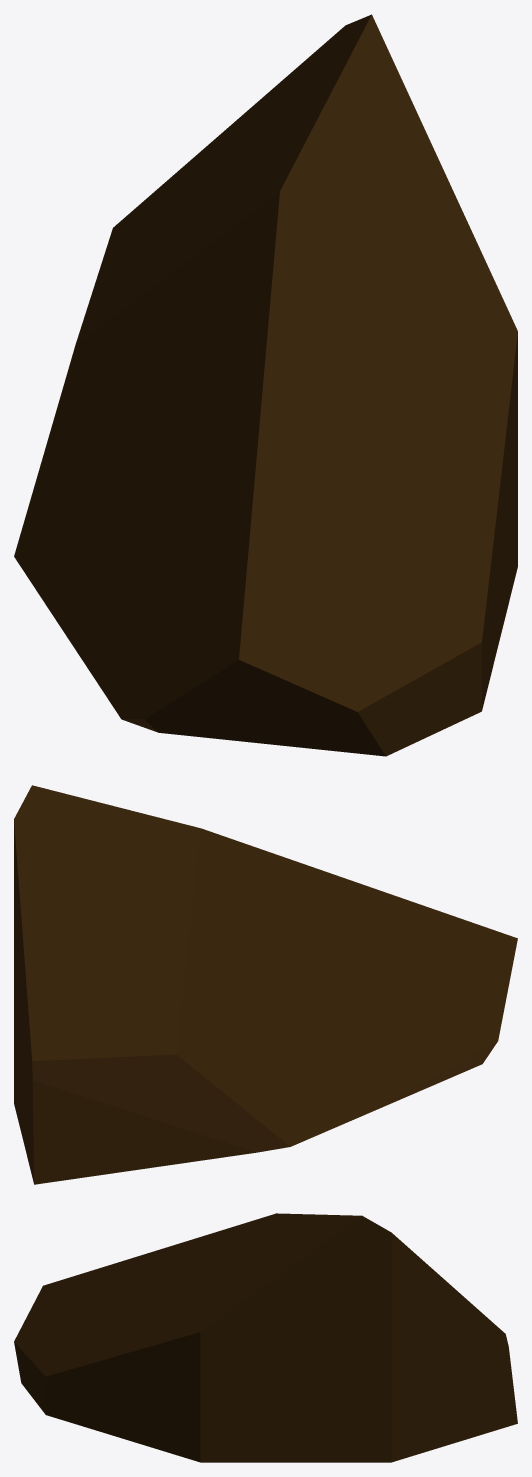
Rendered from Debris9.glb.
3 views of the same model, one above another, from view 1: azimuth 30°, elevation 25°; view 2: azimuth 150°, elevation 25°; view 3: azimuth 270°, elevation 25° (orthographic). The views are drawn at different scales.
Visible parts, largest first — view 1: Cylinder_cell.005; view 2: Cylinder_cell.005; view 3: Cylinder_cell.005.
Boxes of the visible parts, x1,y1,x2,y2 form: Cylinder_cell.005: [14, 14, 517, 756]; Cylinder_cell.005: [14, 785, 517, 1184]; Cylinder_cell.005: [14, 1213, 517, 1462].
Size of the model in its own units: 1.06 by 0.9925 by 1.84.
